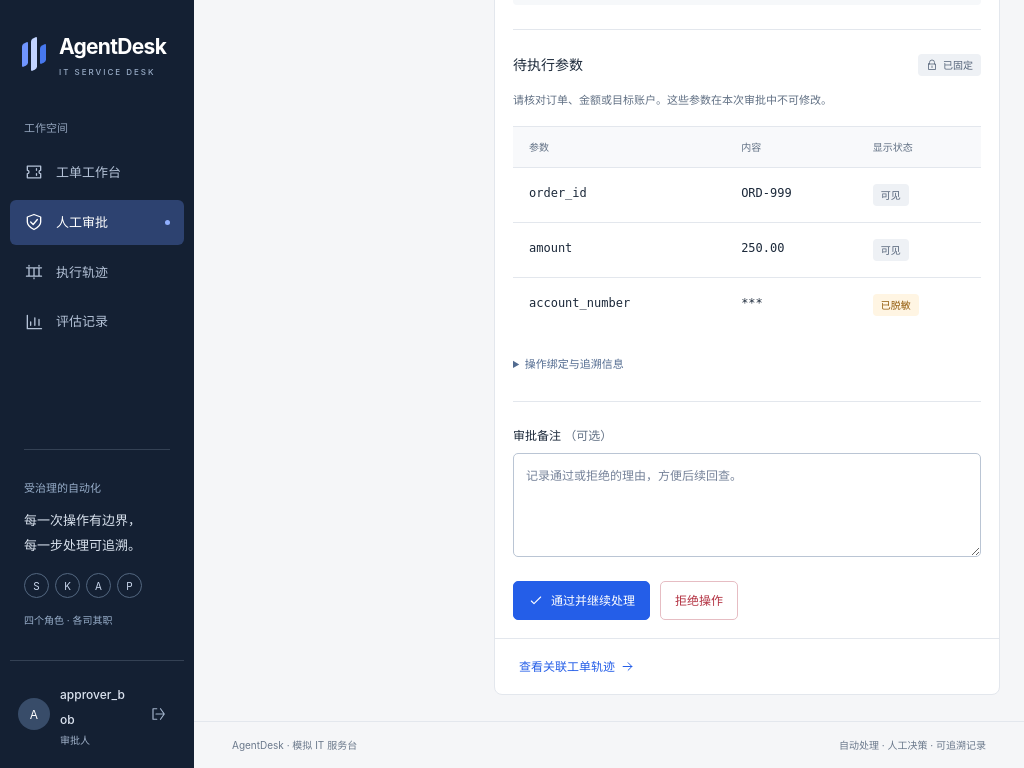
Test case: ApprovalView › submits approve decision with expected version
(page scrolled)
In the text box labelled "审批备注 （可选）": (747, 506) [513,454,981,558], type "Customer eligible for VIP exception"
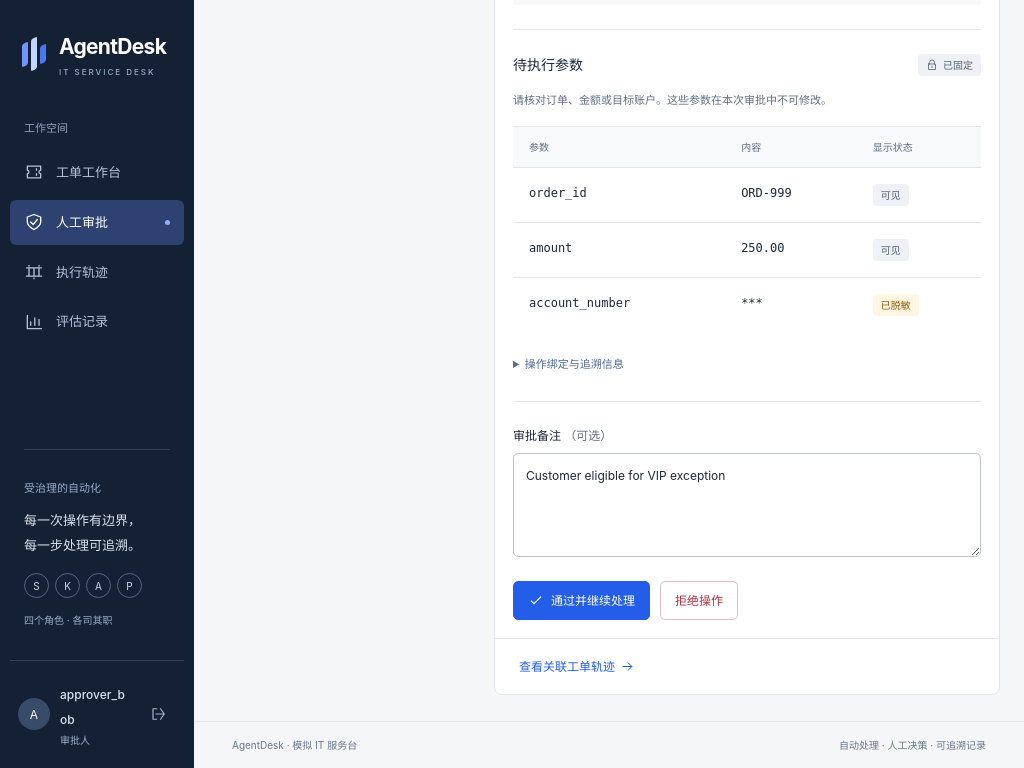
Click the button with test id "approve-button": (582, 601) [513,581,650,620]
(page scrolled)
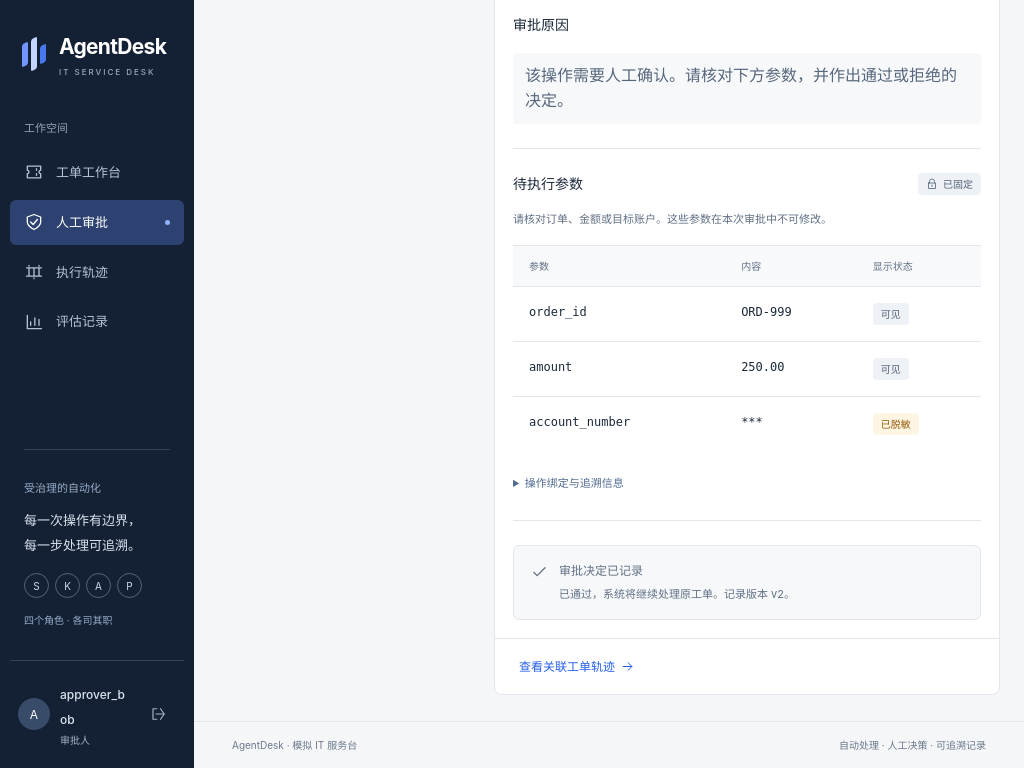
expect the text "已通过" is shown: met, box [559,587,795,601]
expect the text "审批决定已记录" is shown: met, box [559,563,643,578]
